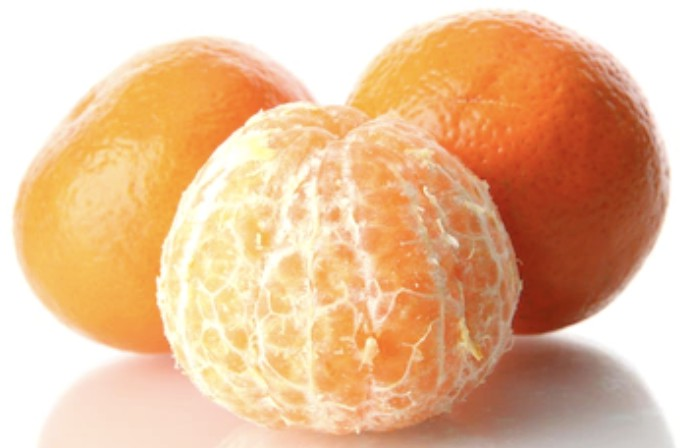fresh_orange: (341, 7, 672, 342), (9, 37, 332, 359)
